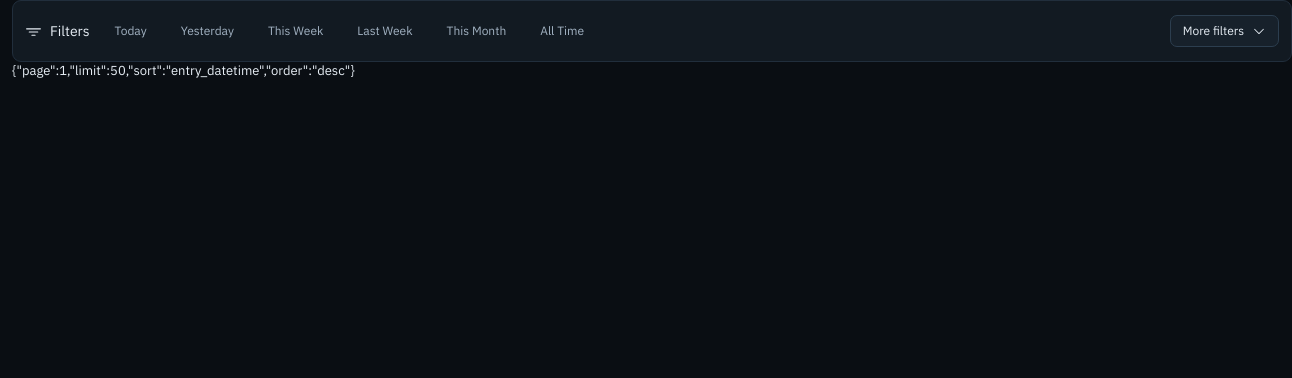
Test: FilterBar › maps company-labelled account choices to accountId and preserves supported filters
Click the button "More filters" at (1224, 31), box [1170,15,1279,47]
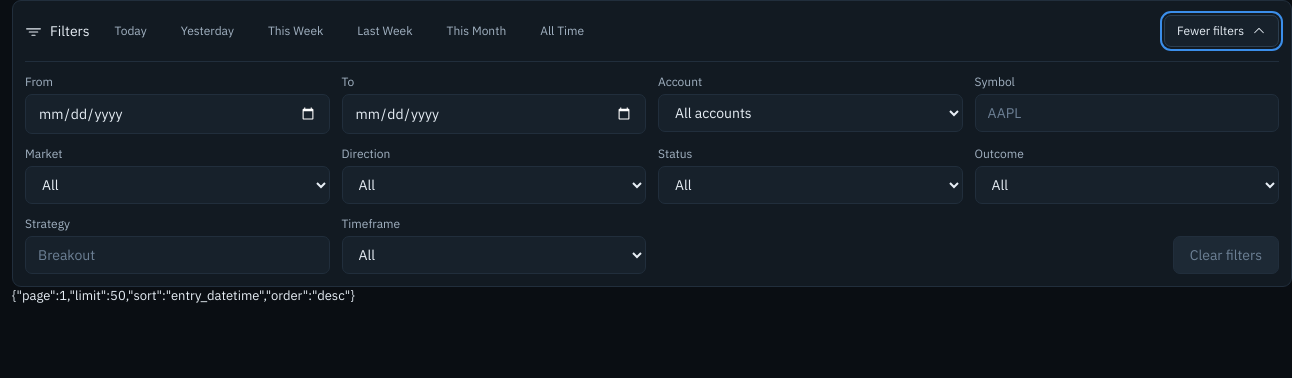
Select "Broker One — A-100 (Primary)" in the dropdown labelled "Account" at (810, 113), box [658,94,962,132]
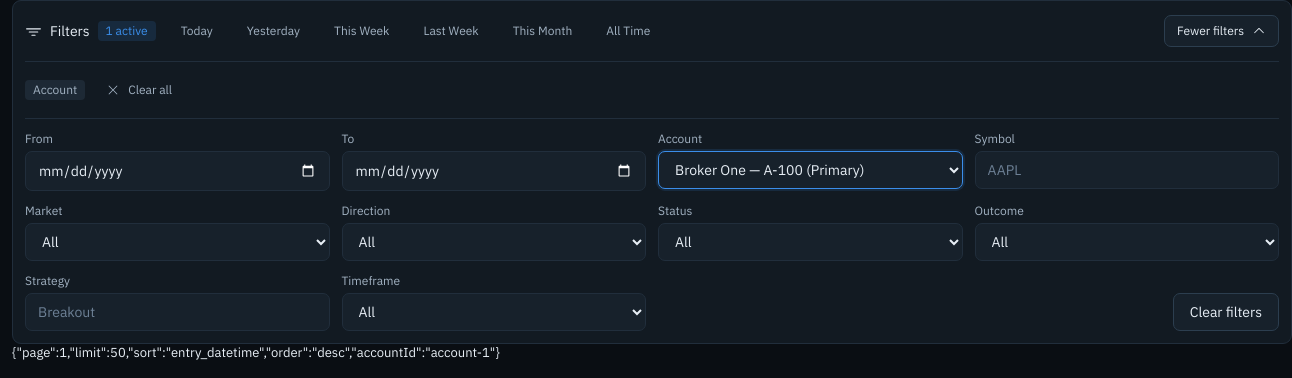
Select "15m" in the dropdown labelled "Timeframe" at (494, 312), box [342,293,646,331]
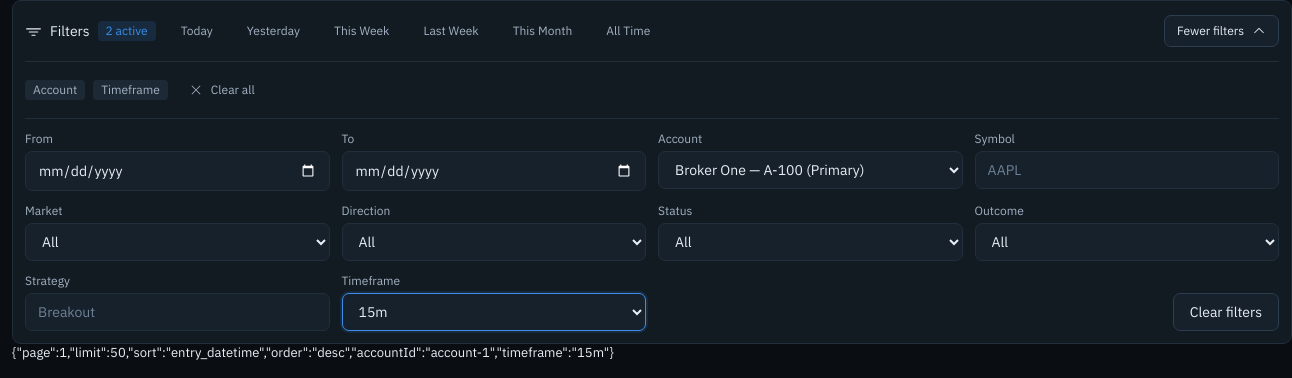
Expected: the text named "Filter state" shows "\"limit\":50", [12,344,614,361]
Result: the text named "Filter state" shows "\"accountId\":\"account-1\"" at [12,344,614,361]
Result: the text named "Filter state" shows "\"timeframe\":\"15m\"" at [12,344,614,361]
